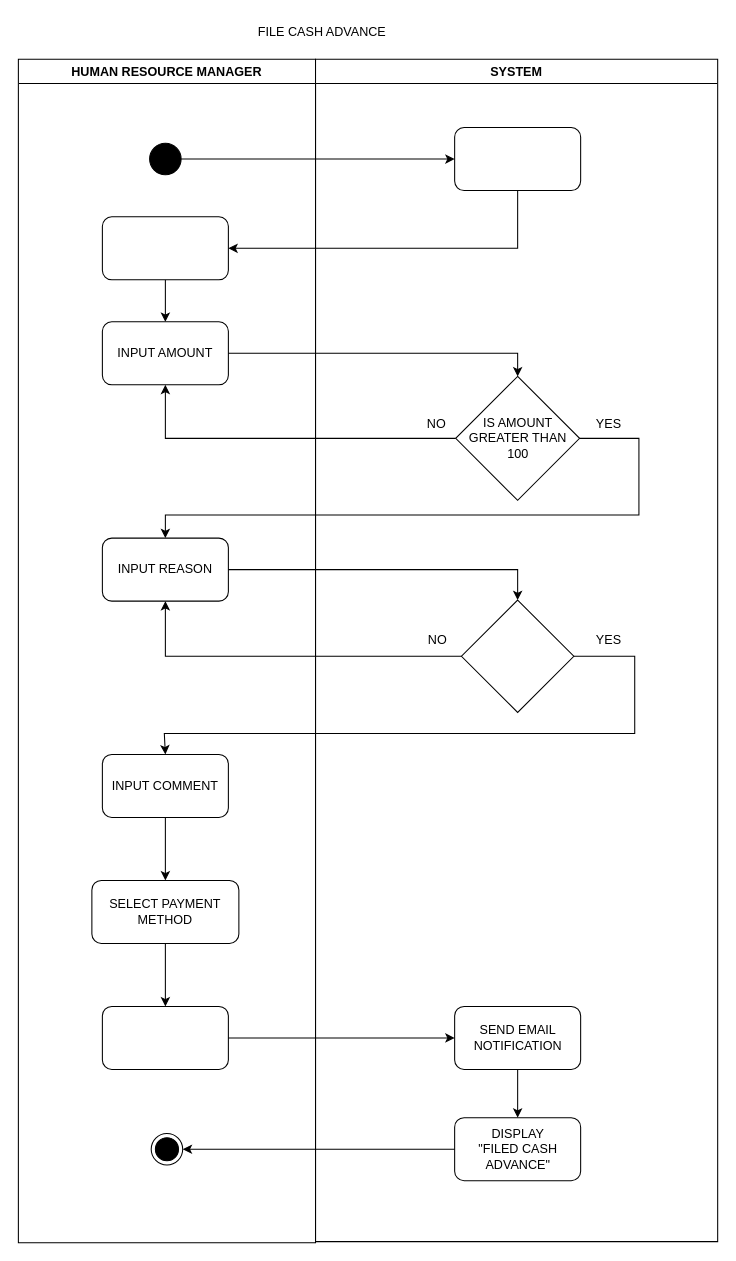
The diagram is 736 pixels wide and 1261 high, and some of its shapes have lost their labels. The centre of each missing label's shape, as x and y in pixels:
CLICK SUBMIT: the point at 164,1037
DISPLAY CASH-ADVANCE FORM: the point at 517,159
IS REASON NOT BLANK: the point at 517,655
SELECT EMPLOYEE: the point at 164,248
